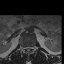CCS_normal: (27, 44, 29, 52)
LFS_normal: (31, 45, 34, 50)
LLS_normal: (29, 44, 31, 51)
RFS_normal: (23, 45, 25, 51)
RLS_normal: (25, 45, 27, 51)
